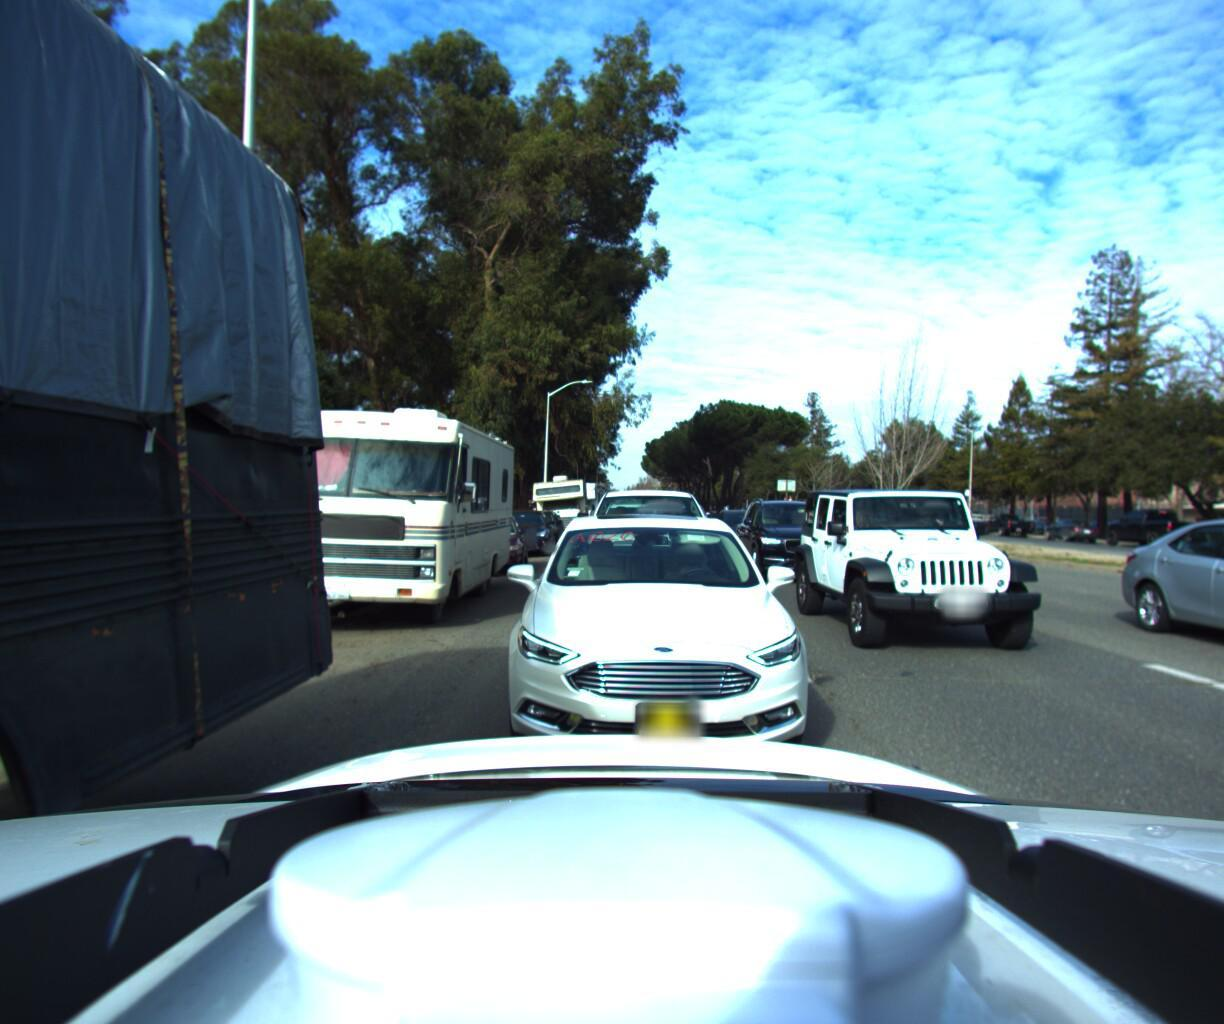car: (486, 489, 840, 795), (782, 470, 1068, 655), (1117, 505, 1224, 696), (579, 479, 718, 603), (721, 494, 850, 588), (439, 511, 538, 578), (703, 503, 786, 563), (1098, 506, 1205, 548), (491, 506, 560, 556), (512, 506, 568, 547), (1034, 511, 1106, 540), (664, 499, 710, 534), (976, 511, 1031, 534), (941, 508, 996, 531)
other_vehicle: (215, 352, 523, 648), (517, 465, 594, 538), (549, 475, 609, 533)
